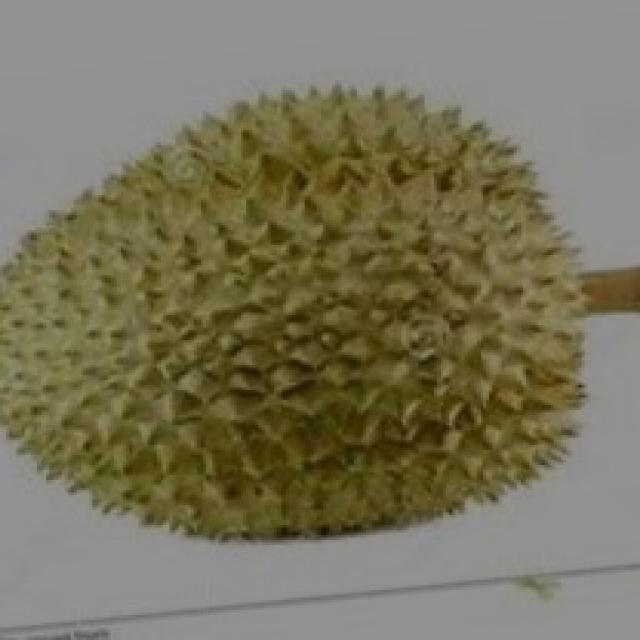fruit: (258, 183, 640, 575), (0, 185, 360, 597)
